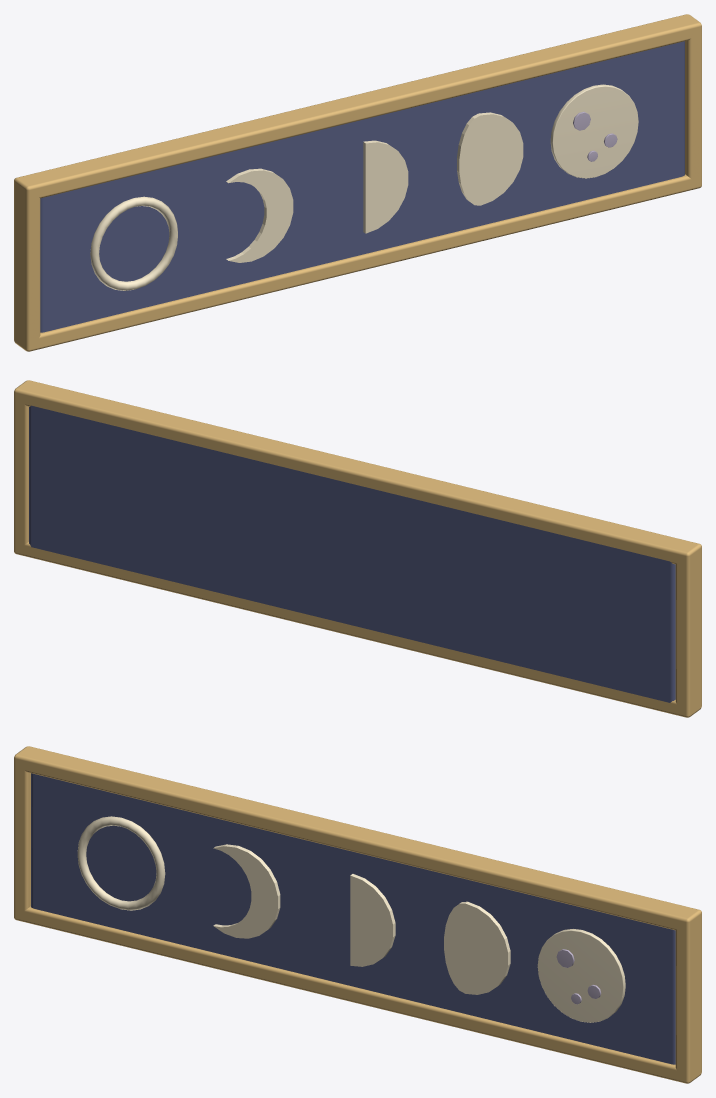
Rendered from Moon_Phase_Board.fbx.
The picture shows the model from 3 angles, top to bottom: view 1: azimuth 30°, elevation 25°; view 2: azimuth 150°, elevation 25°; view 3: azimuth 330°, elevation 25°; orthographic projection.
Visible parts, largest first — view 1: Moon_Phase_Board_Mesh; view 2: Moon_Phase_Board_Mesh; view 3: Moon_Phase_Board_Mesh.
Boxes of the visible parts, x1,y1,x2,y2 form: Moon_Phase_Board_Mesh: (14, 14, 701, 351); Moon_Phase_Board_Mesh: (14, 380, 701, 717); Moon_Phase_Board_Mesh: (14, 746, 701, 1083).
Bounding box in the file's own units: 0.94 × 0.22 × 0.0385.
